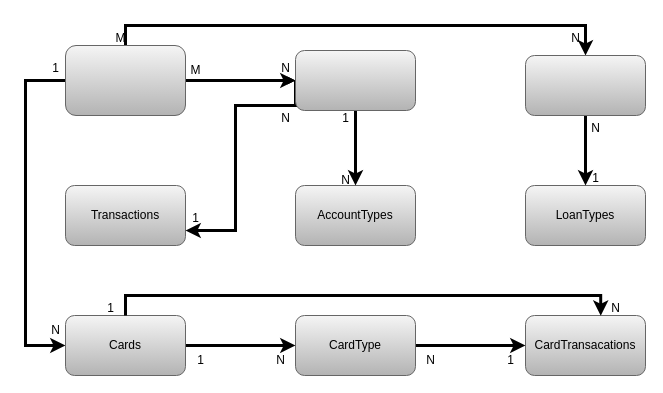
This 663x393 diagram has some shape labels left out. The box of each missing label's shape, as (x1, y1, x2, y2) in pixels:
Accounts: (294, 50, 416, 110)
Customers: (64, 44, 186, 116)
Loans: (524, 54, 646, 116)
